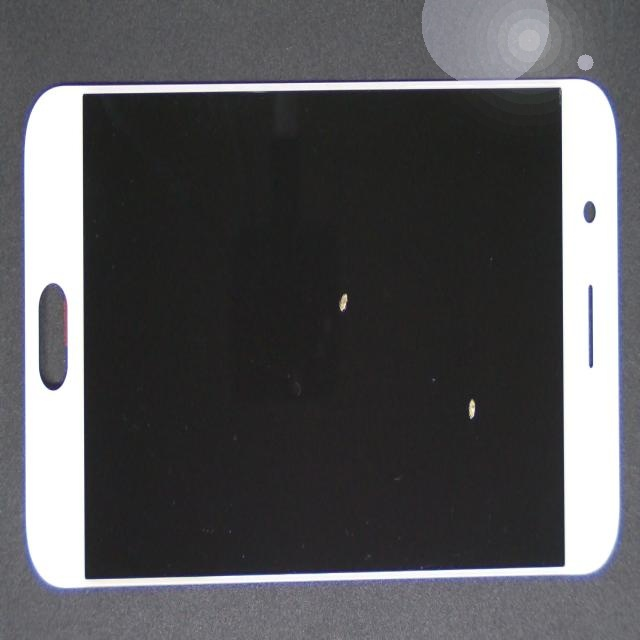stain: (242, 263, 640, 634), (193, 146, 527, 423)
